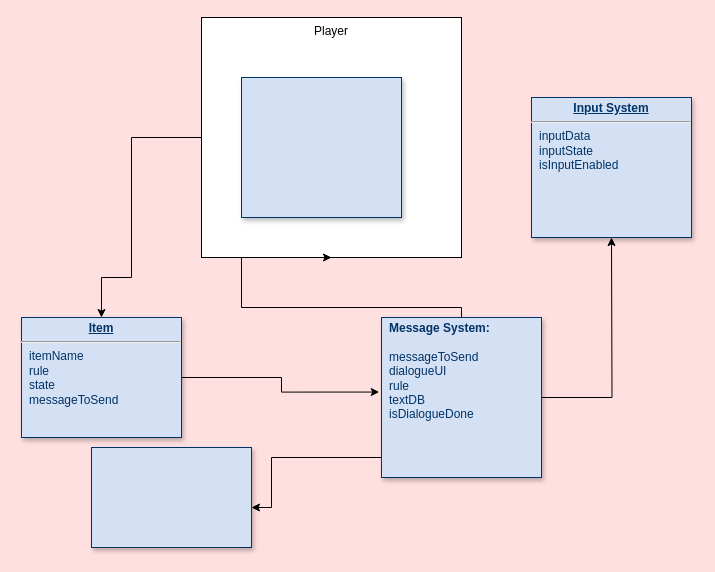
Image size: 715x572. Some labels were removed from this diagram. Each missing label, with the centre of its shape:
"Dialogue UI messageToSend dialogueView textStyle" belongs at (x=172, y=498).
"Player-Data uniqueID tag character/item name currentState" belongs at (x=322, y=148).
